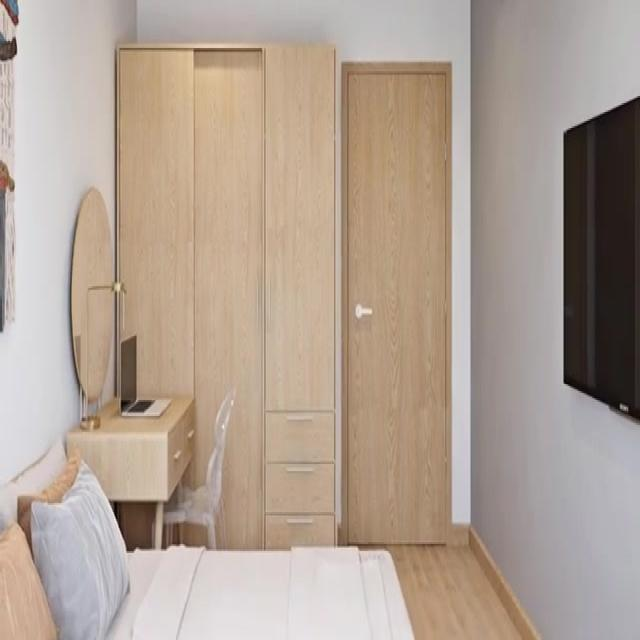door: (341, 60, 449, 546)
obstacle: (115, 41, 336, 549), (0, 441, 416, 638), (65, 393, 195, 547), (151, 386, 237, 549)
